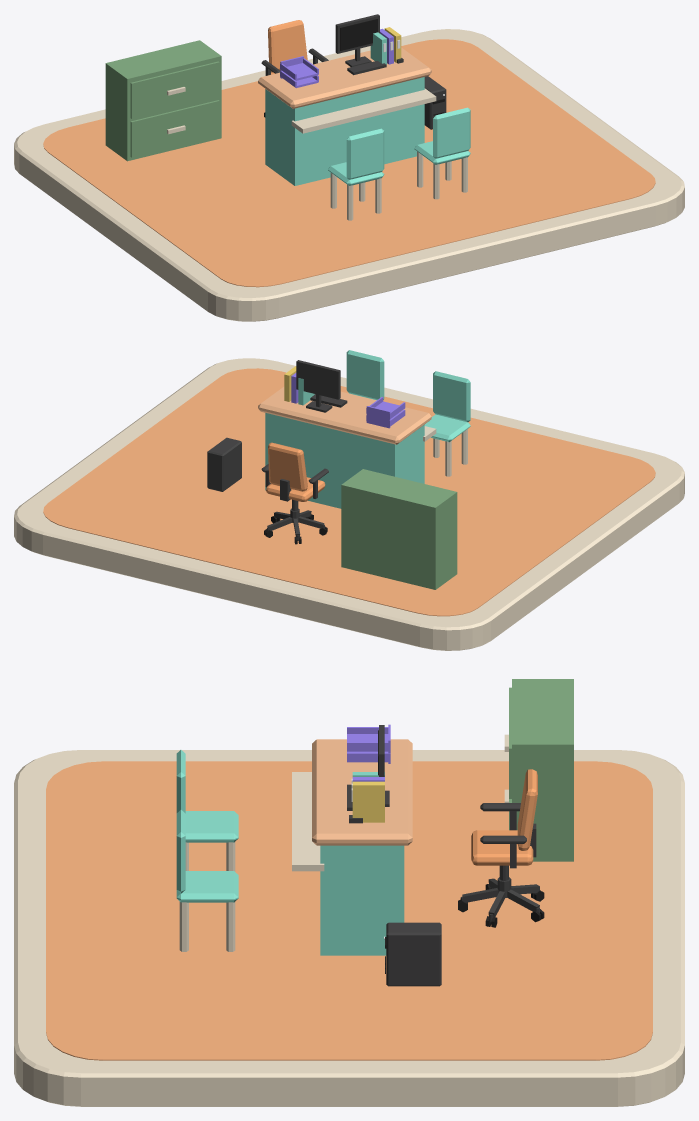
Rendered from room.fbx.
3 renders of one model, top to bottom at view 1: azimuth 30°, elevation 25°; view 2: azimuth 150°, elevation 25°; view 3: azimuth 270°, elevation 25°, orthographic. The views are drawn at different scales.
Parts seen in each view (by area): view 1: COM-02 Floor Surface, COM-01 Rounded Base Direct, Cabinet, Counter body, Countertop, Visitor shelf, COM-04_Chair_blender_direct, Backrest, Backrest.001, Frame, Tower, Seat (+1 smaller); view 2: COM-02 Floor Surface, COM-01 Rounded Base Direct, Cabinet, Counter body, Countertop, COM-04_Chair_blender_direct, Backrest.001, Backrest, Tower, Frame, Seat; view 3: COM-02 Floor Surface, COM-01 Rounded Base Direct, Cabinet, Counter body, Countertop, COM-04_Chair_blender_direct, Tower, Visitor shelf, Seat.001, Seat, File.002, Backrest.001.
Part boxes in pixels (bbox=[...]): COM-02 Floor Surface: bbox=[43, 39, 655, 287]; COM-01 Rounded Base Direct: bbox=[14, 29, 684, 321]; Cabinet: bbox=[105, 40, 221, 161]; Counter body: bbox=[265, 77, 424, 185]; Countertop: bbox=[258, 47, 431, 108]; Visitor shelf: bbox=[291, 88, 436, 133]; COM-04_Chair_blender_direct: bbox=[261, 20, 328, 117]; Backrest: bbox=[346, 128, 384, 179]; Backrest.001: bbox=[433, 107, 470, 158]; Frame: bbox=[335, 14, 379, 66]; Tower: bbox=[424, 76, 446, 129]; Seat: bbox=[328, 162, 384, 185]; COM-02 Floor Surface: bbox=[43, 368, 655, 616]; COM-01 Rounded Base Direct: bbox=[14, 358, 684, 650]; Cabinet: bbox=[341, 469, 457, 589]; Counter body: bbox=[265, 413, 424, 508]; Countertop: bbox=[258, 386, 431, 444]; COM-04_Chair_blender_direct: bbox=[261, 442, 328, 544]; Backrest.001: bbox=[346, 350, 384, 399]; Backrest: bbox=[433, 371, 470, 422]; Tower: bbox=[207, 437, 241, 491]; Frame: bbox=[296, 360, 340, 412]; Seat: bbox=[424, 414, 470, 442]; COM-02 Floor Surface: bbox=[46, 761, 652, 1060]; COM-01 Rounded Base Direct: bbox=[14, 750, 684, 1106]; Cabinet: bbox=[504, 679, 573, 861]; Counter body: bbox=[320, 845, 404, 955]; Countertop: bbox=[312, 739, 412, 845]; COM-04_Chair_blender_direct: bbox=[458, 769, 544, 927]; Tower: bbox=[386, 922, 441, 986]; Visitor shelf: bbox=[292, 772, 324, 871]; Seat.001: bbox=[176, 871, 238, 902]; Seat: bbox=[185, 811, 238, 842]; File.002: bbox=[352, 781, 384, 822]; Backrest.001: bbox=[176, 810, 185, 893].
Size of the model in its own units: 600 by 187 by 520.
